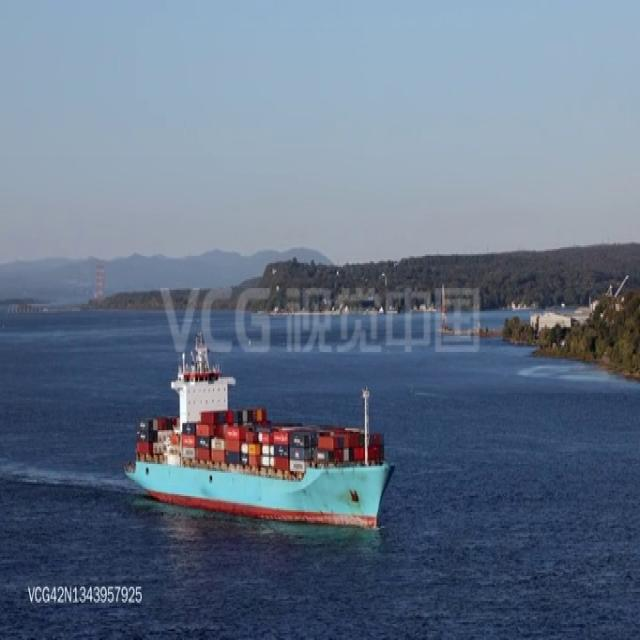cargoship: (122, 323, 392, 530)
